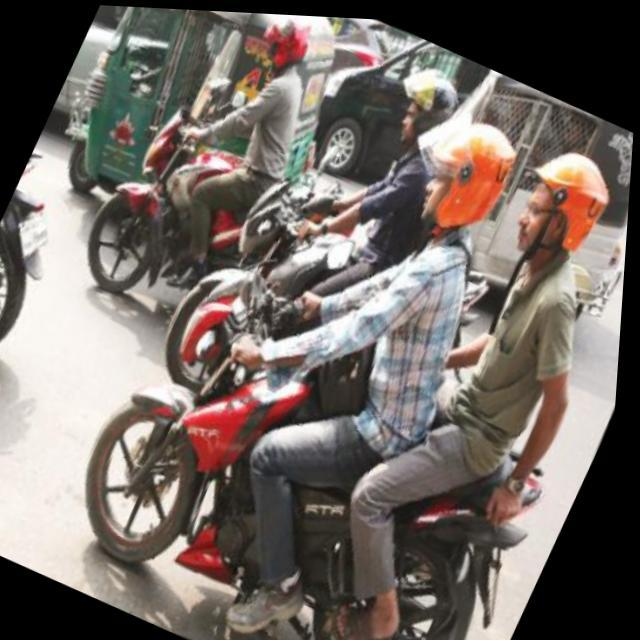Helmet: (407, 114, 522, 249), (506, 136, 612, 264)
